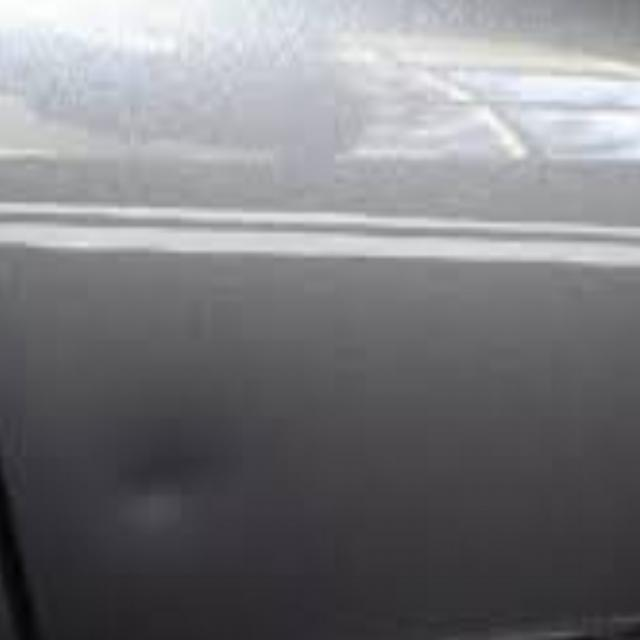dents: (114, 382, 230, 573)
